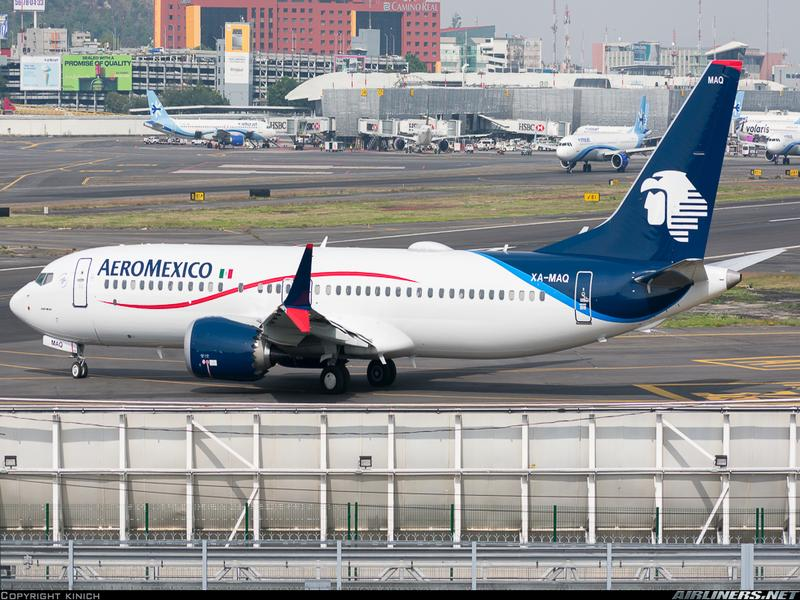737-MAX: (8, 54, 781, 393)
